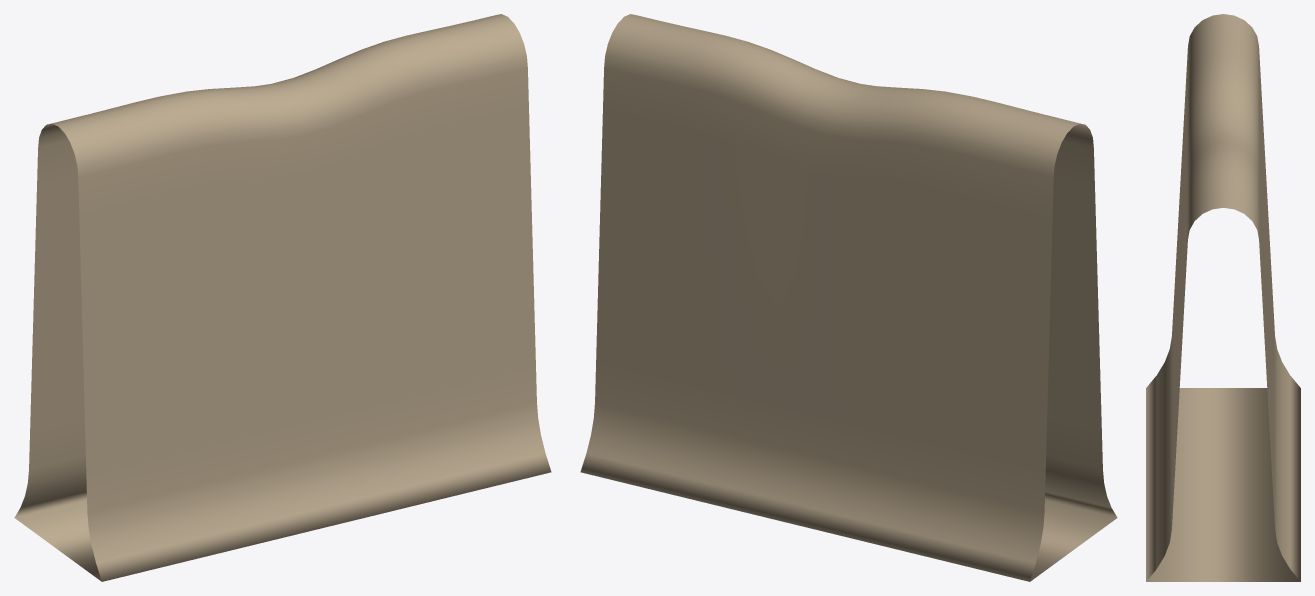
File: KFB_Wall_straight_c.r3.glb
The picture shows the model from 3 angles, left to right: view 1: azimuth 30°, elevation 25°; view 2: azimuth 150°, elevation 25°; view 3: azimuth 270°, elevation 25°; orthographic projection. The views are drawn at different scales.
Parts seen in each view (by area): view 1: KFB_Wall_straight_c; view 2: KFB_Wall_straight_c; view 3: KFB_Wall_straight_c.
Boxes of the visible parts, x1,y1,x2,y2 form: KFB_Wall_straight_c: (14,14,551,581); KFB_Wall_straight_c: (580,14,1117,581); KFB_Wall_straight_c: (1146,14,1300,581).
Bounding box in the file's own units: 4 × 3.61 × 1.35.
